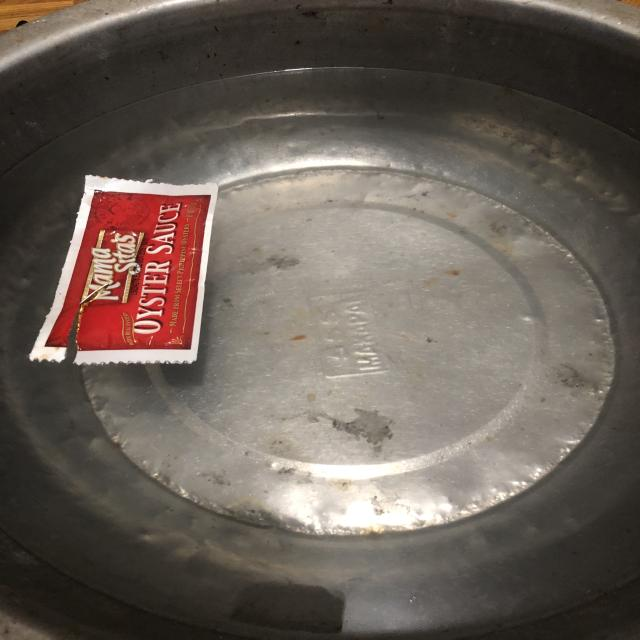Plastic Wrapper: (29, 175, 218, 365)
